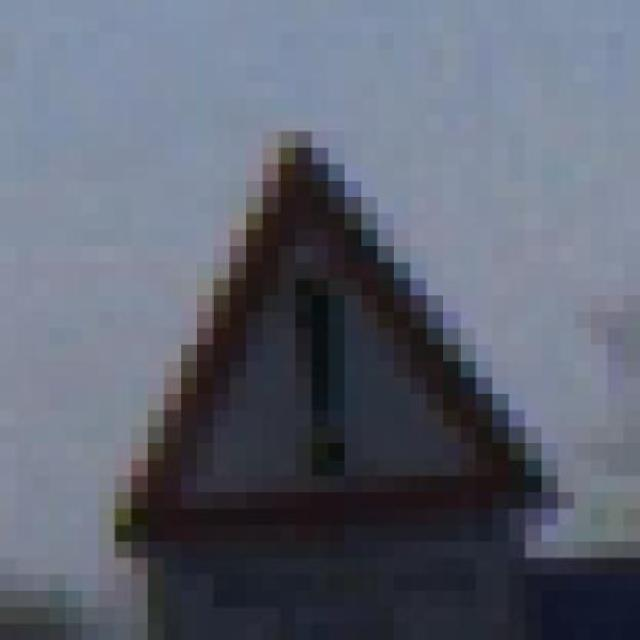Attention Please-: (65, 131, 607, 558)
